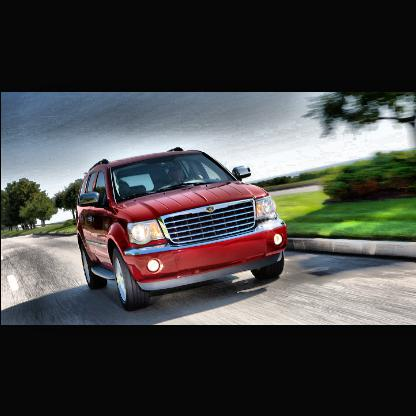Chrysler Aspen SUV 2009: (76, 146, 291, 312)
